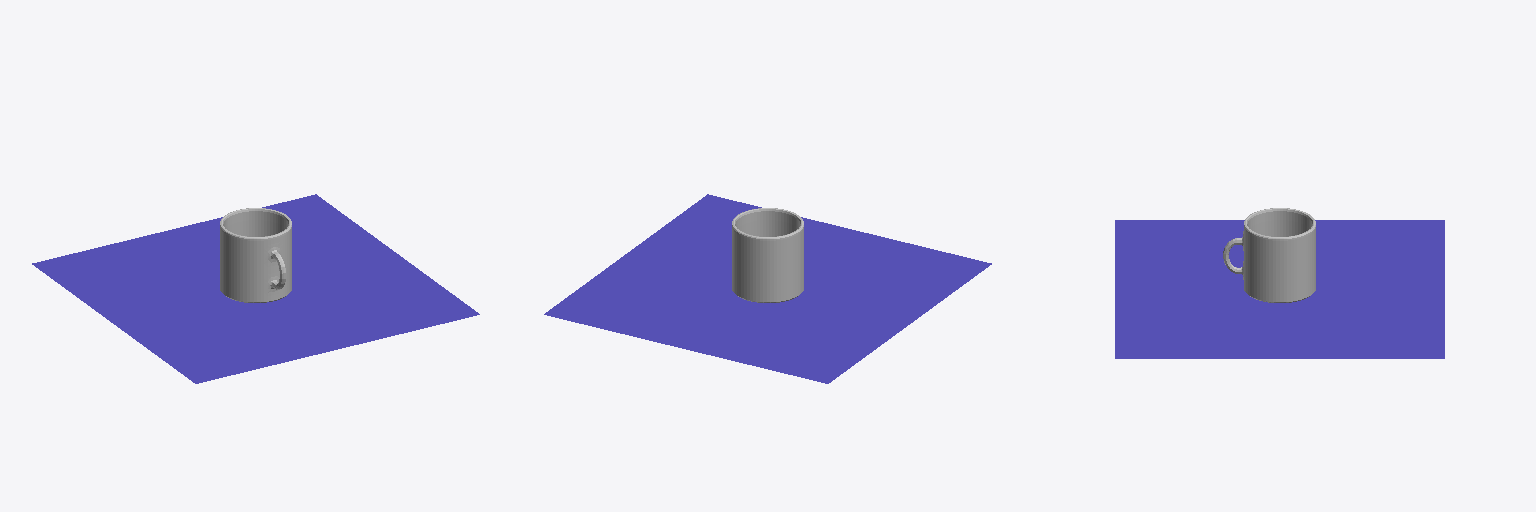
Rendered from glas2.obj.
3 renders of one model, left to right at view 1: azimuth 30°, elevation 25°; view 2: azimuth 150°, elevation 25°; view 3: azimuth 270°, elevation 25°, orthographic.
Size of the model in its own units: 8.96 by 2 by 8.96.